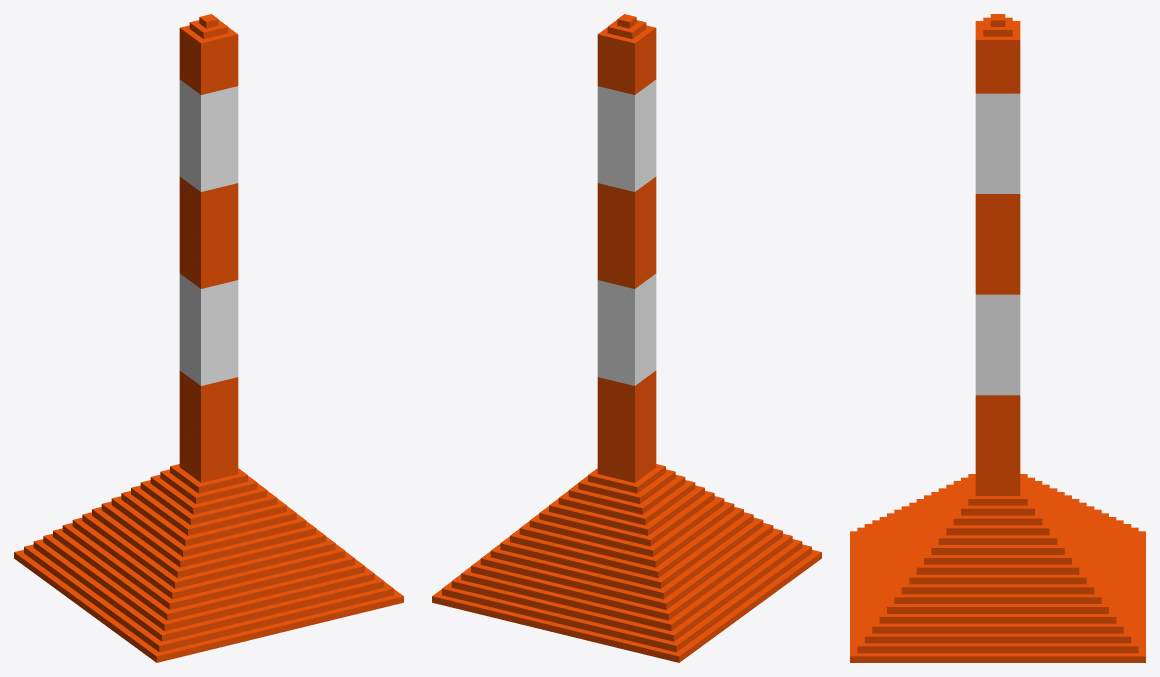
Rendered from Cono.fbx.
The picture shows the model from 3 angles, left to right: view 1: azimuth 30°, elevation 25°; view 2: azimuth 150°, elevation 25°; view 3: azimuth 270°, elevation 25°; orthographic projection. The views are drawn at different scales.
Parts seen in each view (by area): view 1: Obstacle1.001; view 2: Obstacle1.001; view 3: Obstacle1.001.
Part boxes in pixels (x1,y1,x2,y2): Obstacle1.001: (14, 14, 403, 662); Obstacle1.001: (432, 14, 821, 662); Obstacle1.001: (850, 14, 1145, 662).
Size of the model in its own units: 60 by 131 by 60.
